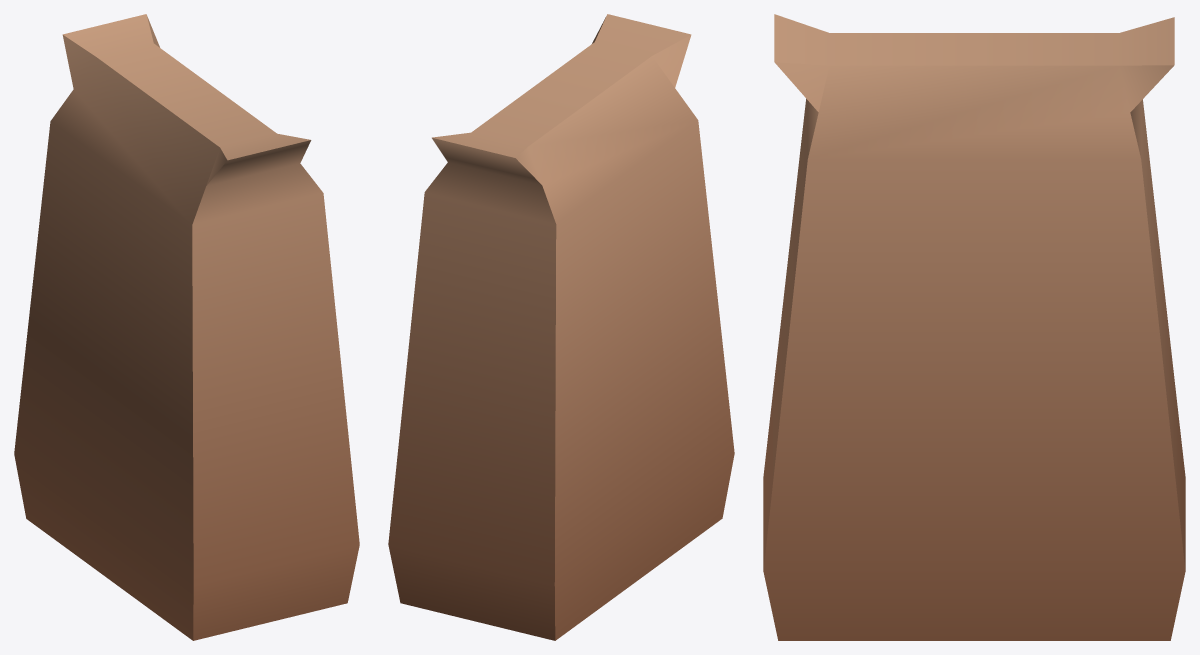
File: sack.glb
3 views of the same model, side by side, from view 1: azimuth 30°, elevation 25°; view 2: azimuth 150°, elevation 25°; view 3: azimuth 270°, elevation 25° (orthographic). The views are drawn at different scales.
Parts seen in each view (by area): view 1: bag-2; view 2: bag-2; view 3: bag-2.
Boxes of the visible parts, x1,y1,x2,y2 form: bag-2: (14,14,359,640); bag-2: (388,14,734,640); bag-2: (763,14,1185,640).
Bounding box in the file's own units: 0.2201 × 0.5998 × 0.4118.
